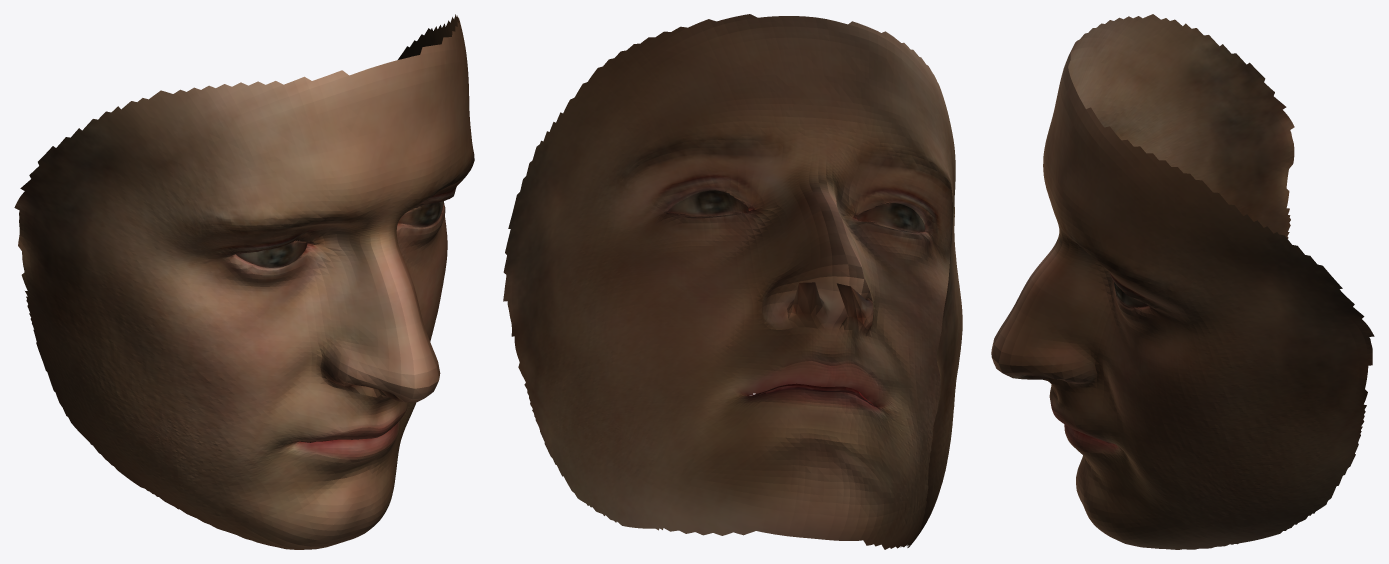
The model's file is 2_pcaTex.obj.
3 renders of one model, left to right at view 1: azimuth 30°, elevation 25°; view 2: azimuth 150°, elevation 25°; view 3: azimuth 270°, elevation 25°, orthographic. The views are drawn at different scales.
Size of the model in its own units: 1.49 by 1.73 by 1.29.
